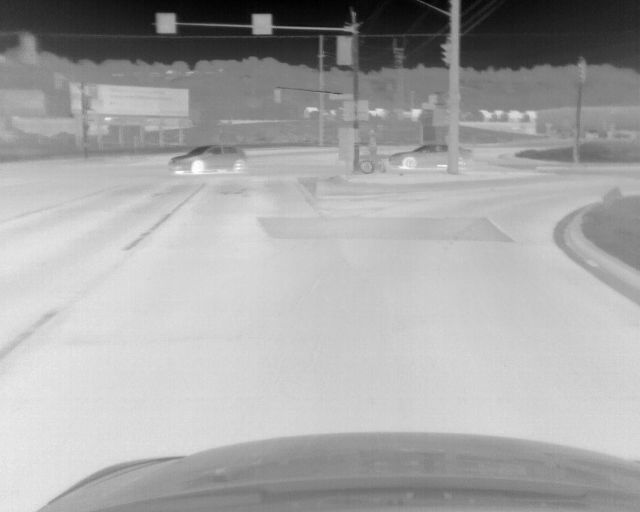car: (168, 144, 248, 175), (389, 143, 475, 169)
